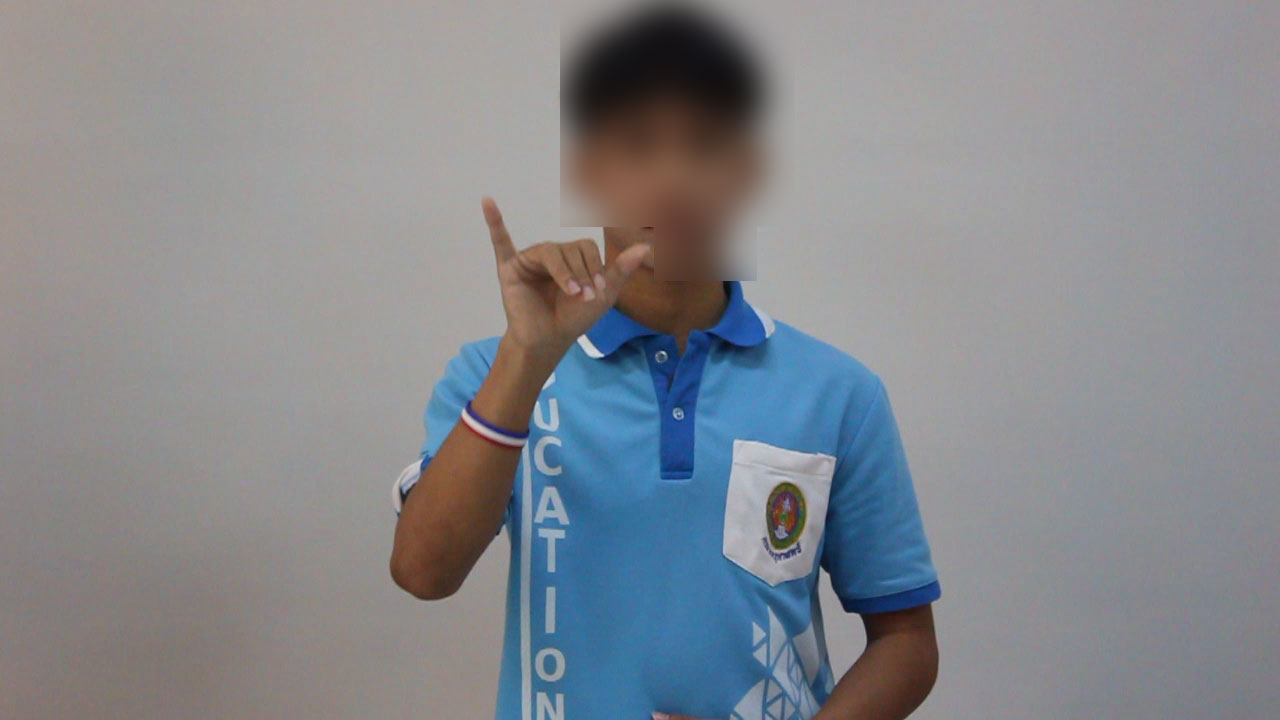yor: (462, 193, 662, 371)
